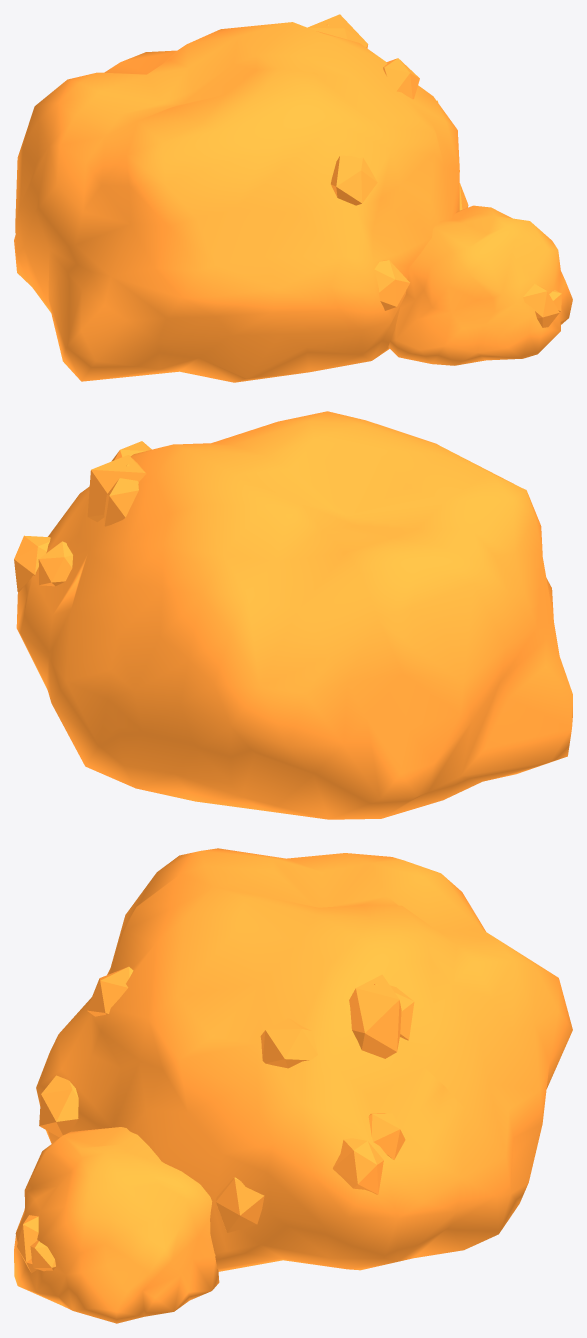
The model's file is rock_ore.glb.
3 views of the same model, one above another, from view 1: azimuth 30°, elevation 25°; view 2: azimuth 150°, elevation 25°; view 3: azimuth 270°, elevation 25° (orthographic). The views are drawn at different scales.
Parts seen in each view (by area): view 1: nug; view 2: nug; view 3: nug.
Part boxes in pixels (x1,y1,x2,y2): nug: (14, 14, 572, 382); nug: (14, 411, 572, 819); nug: (14, 848, 572, 1323).
Bounding box in the file's own units: 1.81 × 0.9875 × 1.65.
